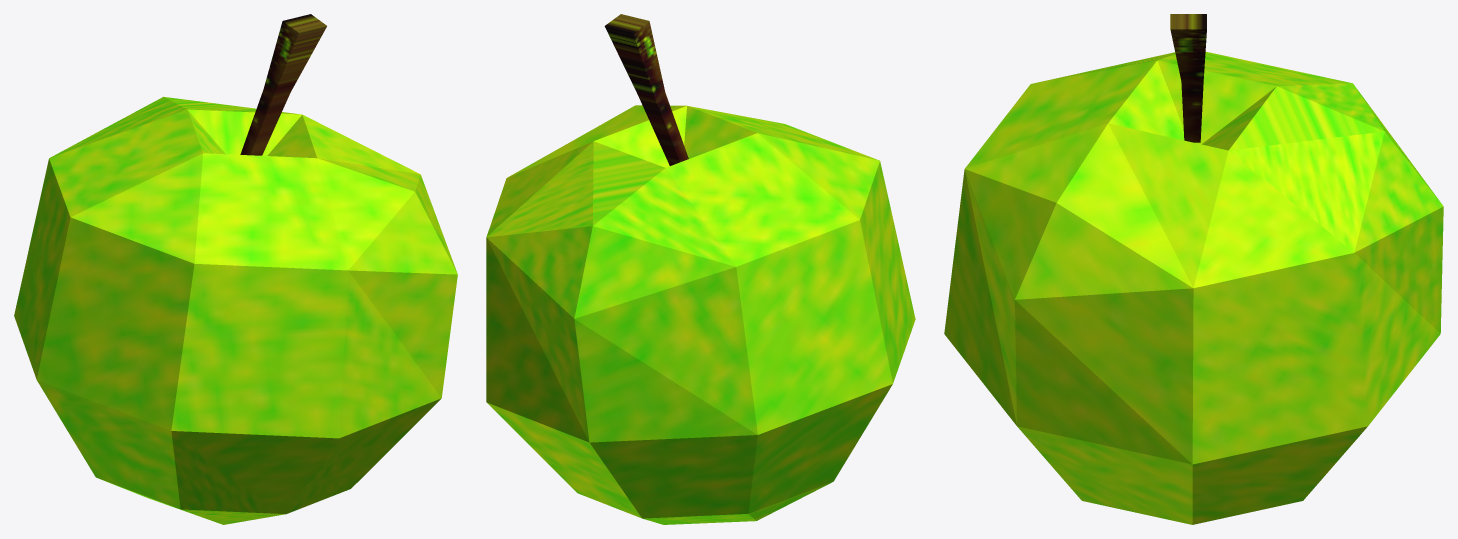
Rendered from items__apple.glb.
3 renders of one model, left to right at view 1: azimuth 30°, elevation 25°; view 2: azimuth 150°, elevation 25°; view 3: azimuth 270°, elevation 25°, orthographic. The views are drawn at different scales.
Parts seen in each view (by area): view 1: fruit1, stem1; view 2: fruit1, stem1; view 3: fruit1, stem1.
Boxes of the visible parts, x1,y1,x2,y2 form: fruit1: [14, 96, 457, 524]; stem1: [240, 14, 326, 155]; fruit1: [486, 105, 915, 524]; stem1: [604, 14, 688, 165]; fruit1: [944, 51, 1443, 524]; stem1: [1170, 14, 1206, 142].
Size of the model in its own units: 2.52 by 2.95 by 2.54.
Materials: 1 (1 with a texture image).
